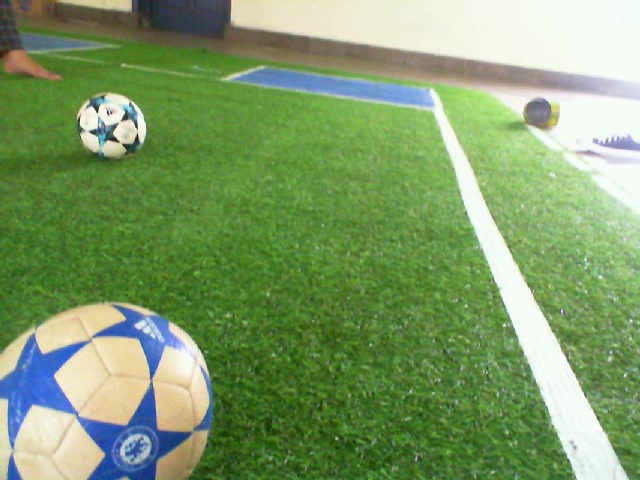ball: (1, 297, 217, 480), (75, 90, 149, 162)
